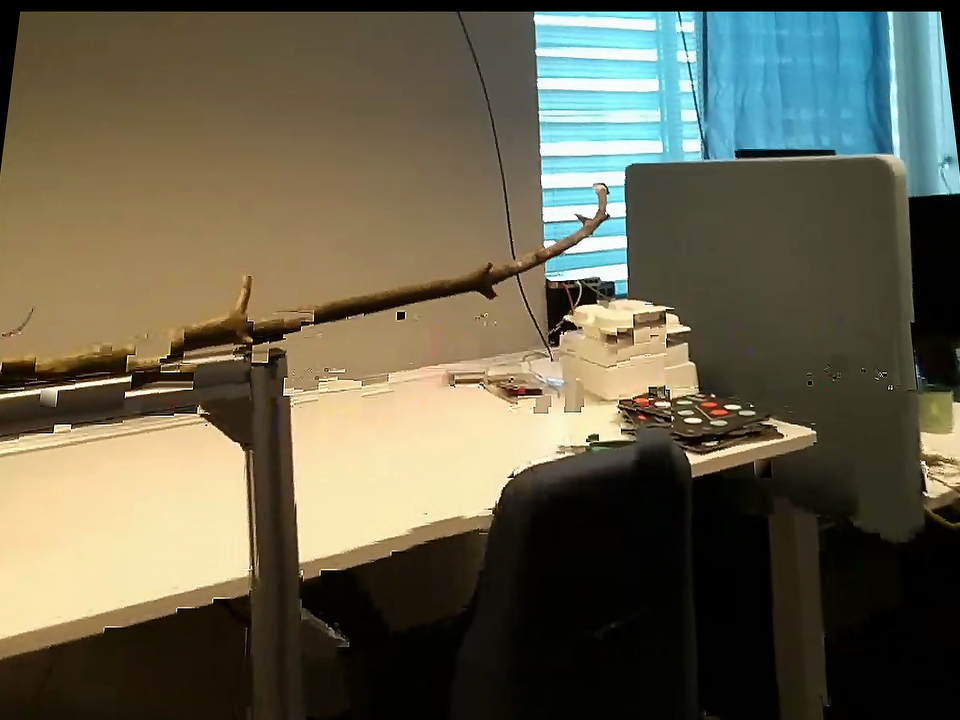branch: (303, 246, 512, 342), (487, 177, 613, 297)
